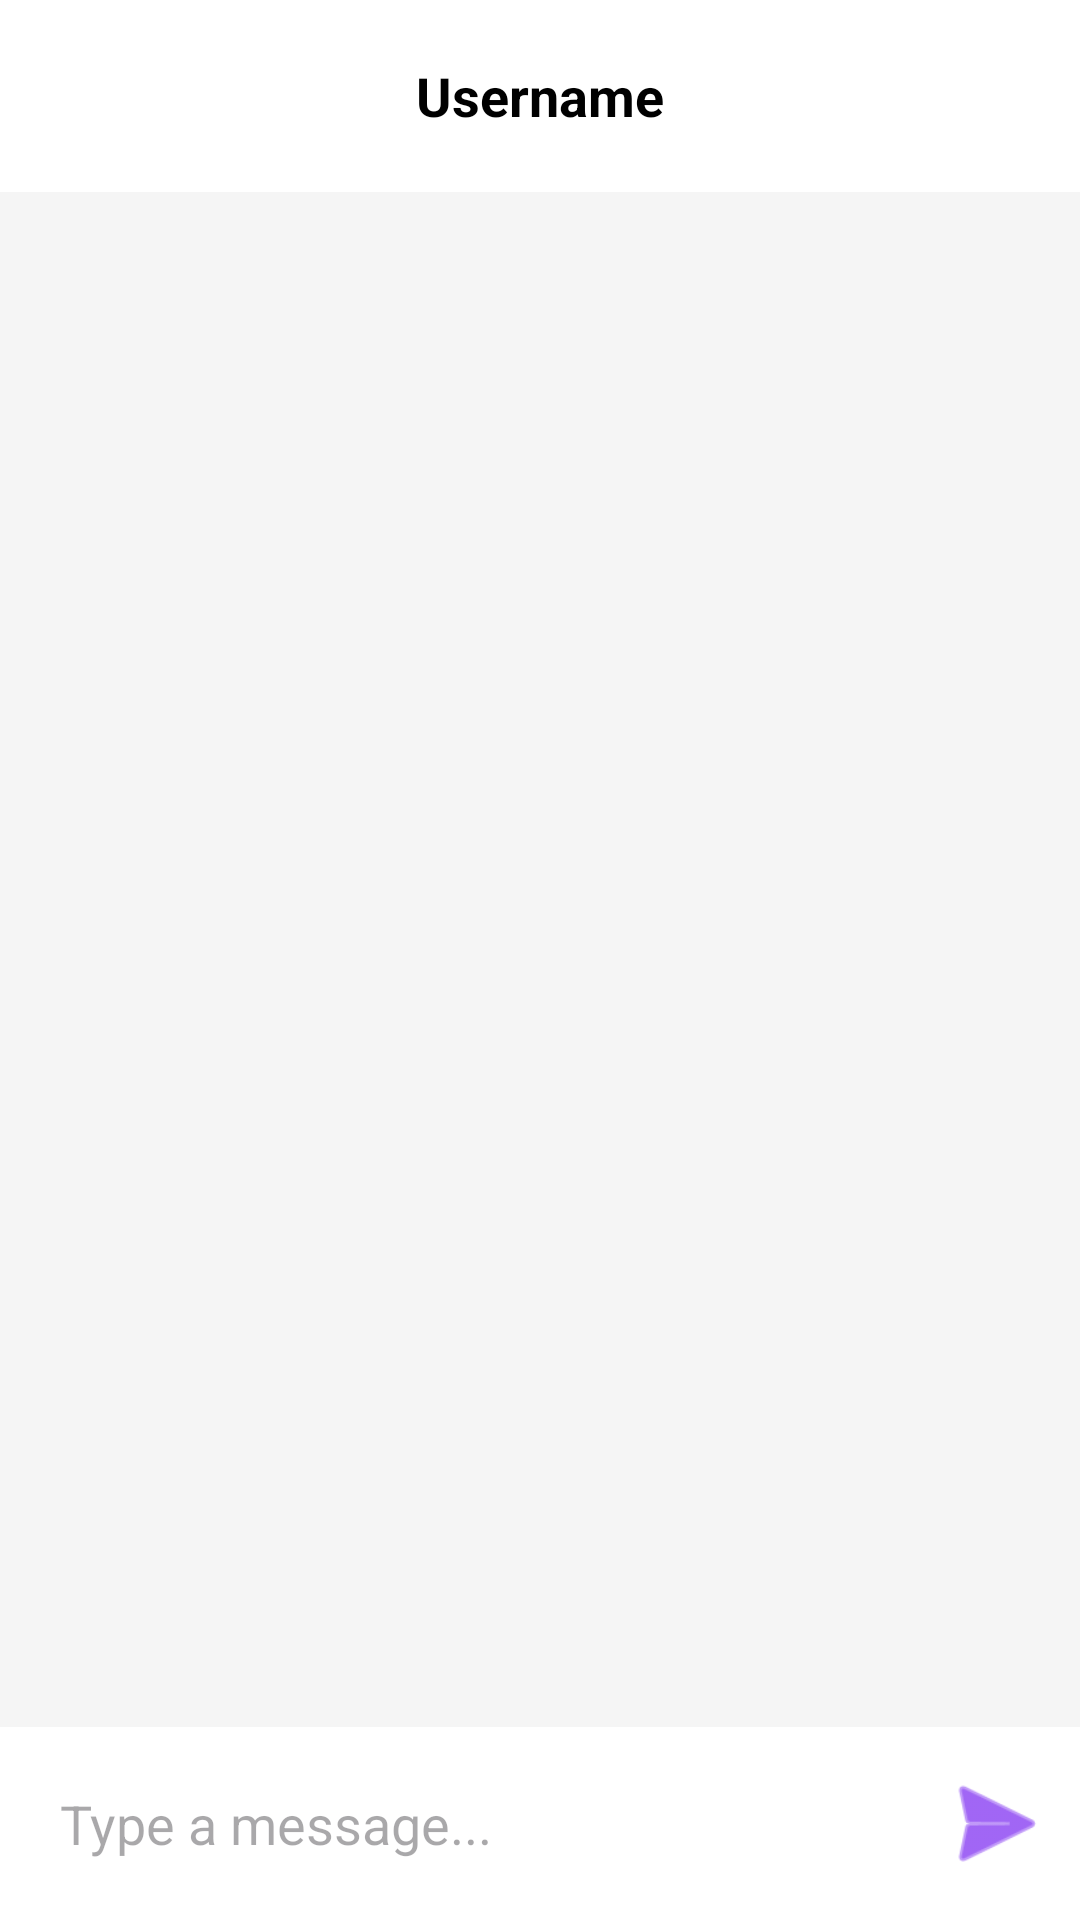

Locate icon controls on the screen. Image size 1080px×1920px, boxes as BBox(x1, y1, x2, y2).
send: BBox(958, 1786, 1036, 1862)
